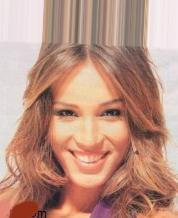face: (55, 99, 125, 173)
